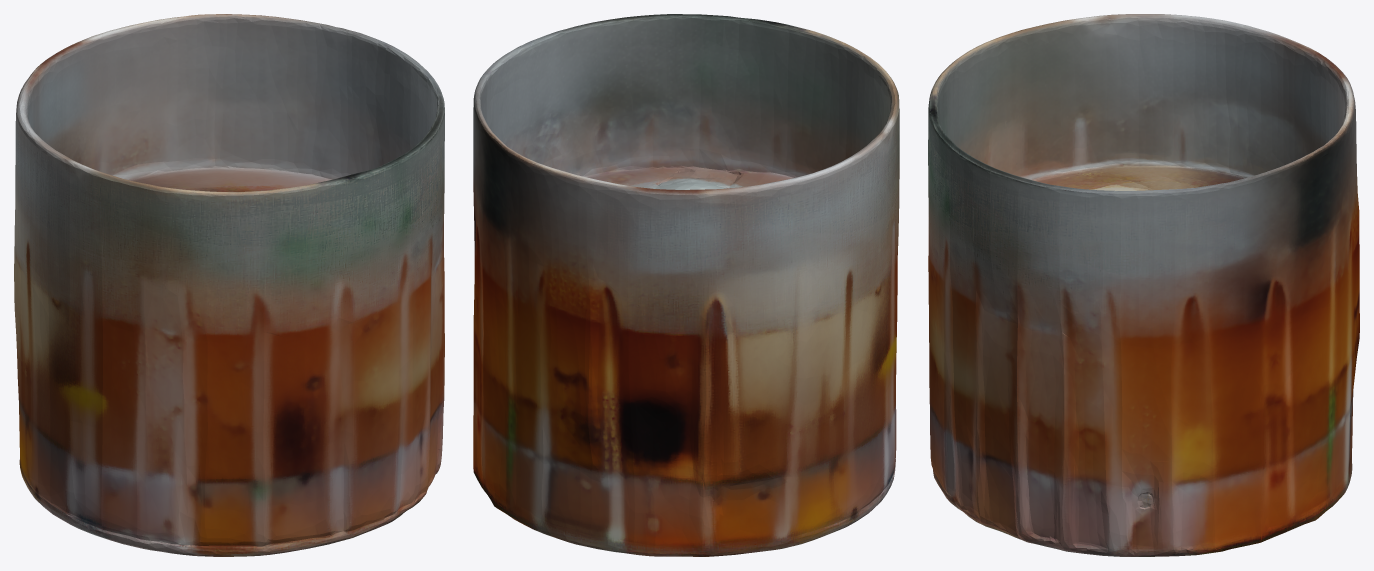
File: smoked-old-fashioned.glb
3 views of the same model, side by side, from view 1: azimuth 30°, elevation 25°; view 2: azimuth 150°, elevation 25°; view 3: azimuth 270°, elevation 25° (orthographic).
Visible parts, largest first — view 1: world; view 2: world; view 3: world.
Part boxes in pixels (x1,y1,x2,y2): world: (14, 14, 444, 556); world: (473, 14, 899, 556); world: (928, 14, 1359, 556).
Size of the model in its own units: 0.6126 by 0.5828 by 0.6158.
1 material, 1 textured.
